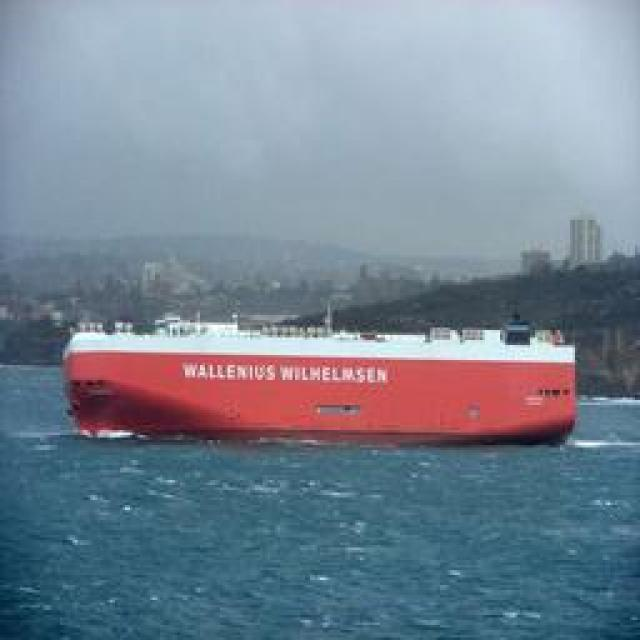CIV_Ship: (66, 325, 586, 443)
